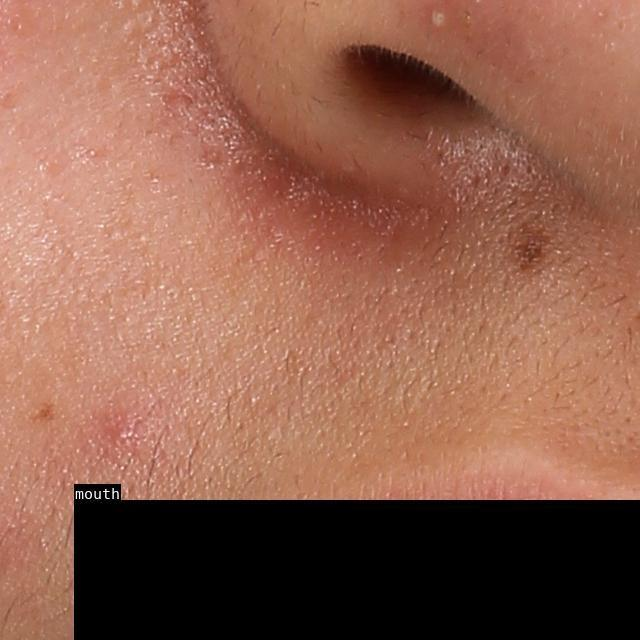nevus: (507, 205, 552, 284), (26, 400, 58, 423)
pustule: (425, 4, 450, 31)
